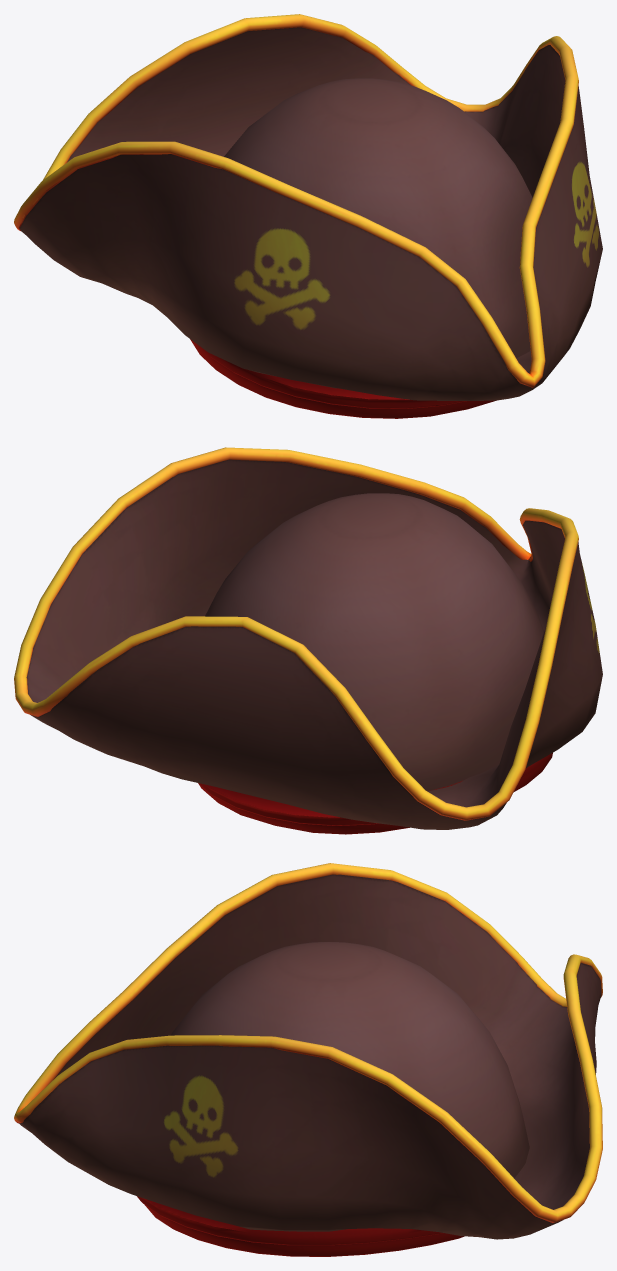
Rendered from Pirate_Hat.glb.
3 views of the same model, one above another, from view 1: azimuth 30°, elevation 25°; view 2: azimuth 150°, elevation 25°; view 3: azimuth 270°, elevation 25° (orthographic). The views are drawn at different scales.
Parts seen in each view (by area): view 1: Pirate_Hat; view 2: Pirate_Hat; view 3: Pirate_Hat.
Boxes of the visible parts, box(x1,y1,x2,y2) form: Pirate_Hat: box(14, 14, 602, 418); Pirate_Hat: box(14, 447, 602, 834); Pirate_Hat: box(14, 863, 602, 1256).
Bounding box in the file's own units: 0.7623 × 0.356 × 0.8036.
Materials: 1 (1 with a texture image).
